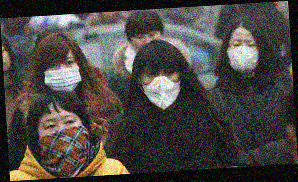with_mask: (36, 112, 87, 172), (140, 64, 182, 109), (42, 54, 84, 95), (227, 37, 261, 74)
without_mask: (133, 31, 162, 52)
